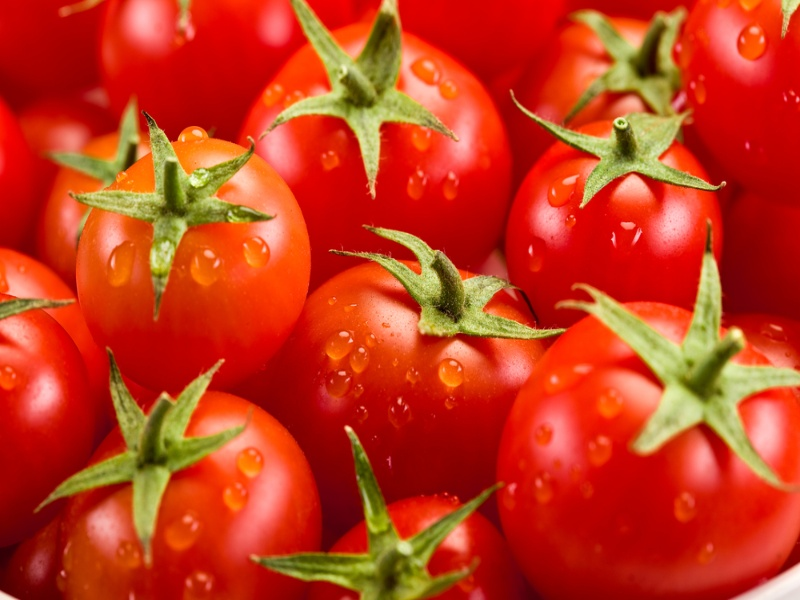Tomate: (498, 301, 797, 600), (242, 24, 514, 300), (268, 259, 545, 513), (77, 140, 310, 396), (67, 390, 323, 600), (510, 119, 721, 321), (96, 3, 355, 140), (2, 236, 102, 529), (521, 15, 684, 173), (680, 2, 800, 205), (310, 495, 522, 600), (359, 1, 574, 88)
